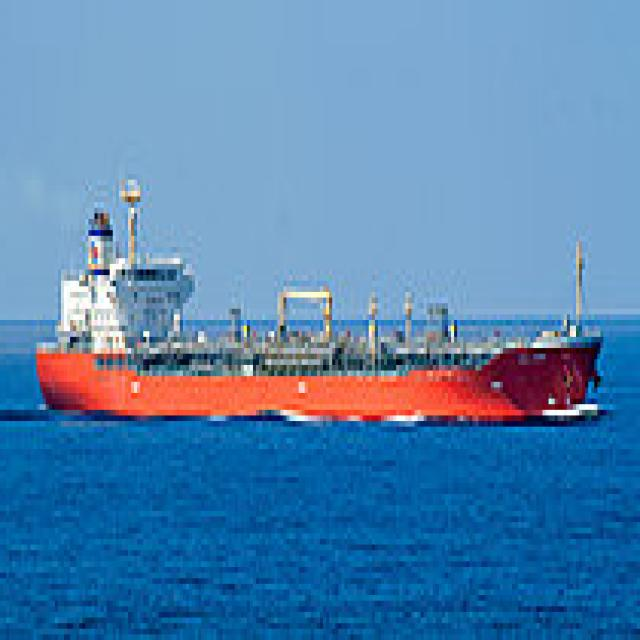Tanker: (36, 174, 610, 410)
